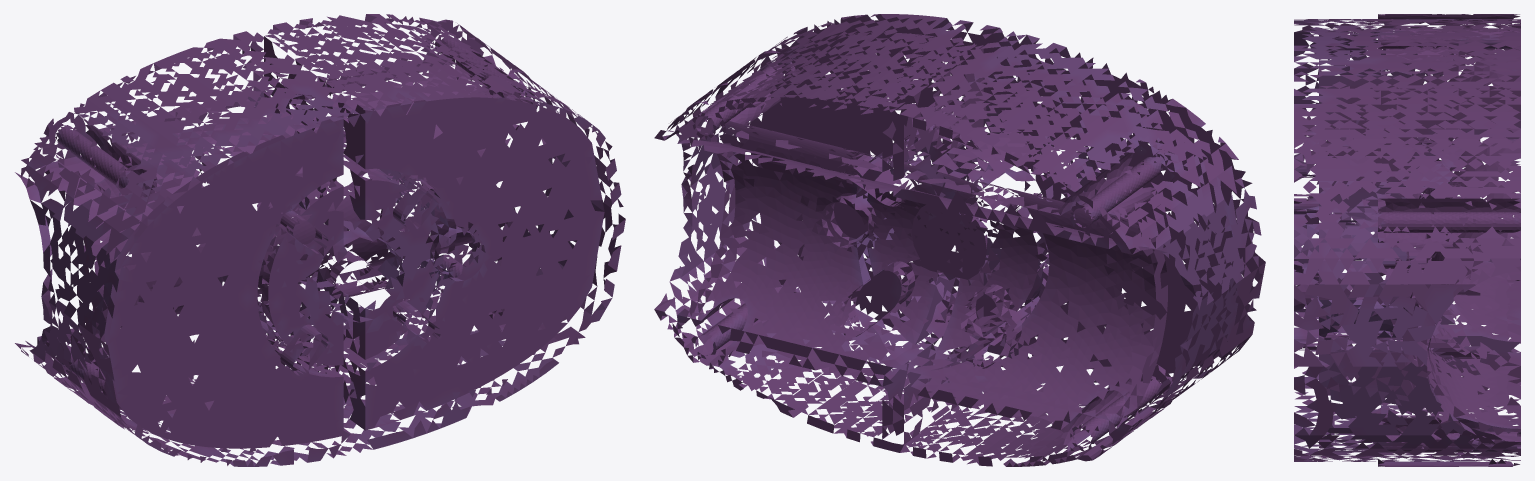
The model's file is NAC-U.glb.
3 views of the same model, side by side, from view 1: azimuth 30°, elevation 25°; view 2: azimuth 150°, elevation 25°; view 3: azimuth 270°, elevation 25° (orthographic).
Parts seen in each view (by area): view 1: geometry_0; view 2: geometry_0; view 3: geometry_0.
Boxes of the visible parts, x1,y1,x2,y2 form: geometry_0: (15, 14, 625, 466); geometry_0: (654, 14, 1265, 466); geometry_0: (1294, 14, 1520, 466).
Size of the model in its own units: 96 by 59.99 by 36.5.
